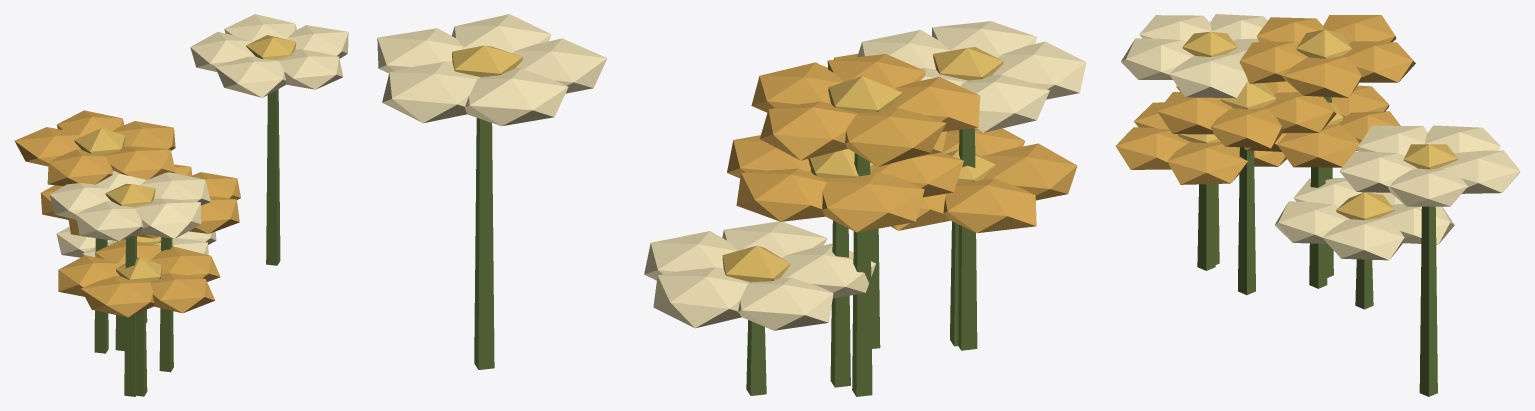
File: SM_Flowers.fbx
3 renders of one model, left to right at view 1: azimuth 30°, elevation 25°; view 2: azimuth 150°, elevation 25°; view 3: azimuth 270°, elevation 25°, orthographic. The views are drawn at different scales.
Visible parts, largest first — view 1: SM_Flowers; view 2: SM_Flowers; view 3: SM_Flowers.
Part boxes in pixels (<box>): SM_Flowers: <box>14,14,348,396</box>; SM_Flowers: <box>377,14,1086,396</box>; SM_Flowers: <box>1115,14,1520,396</box>.
Size of the model in its own units: 0.747 by 0.6225 by 0.4217.
